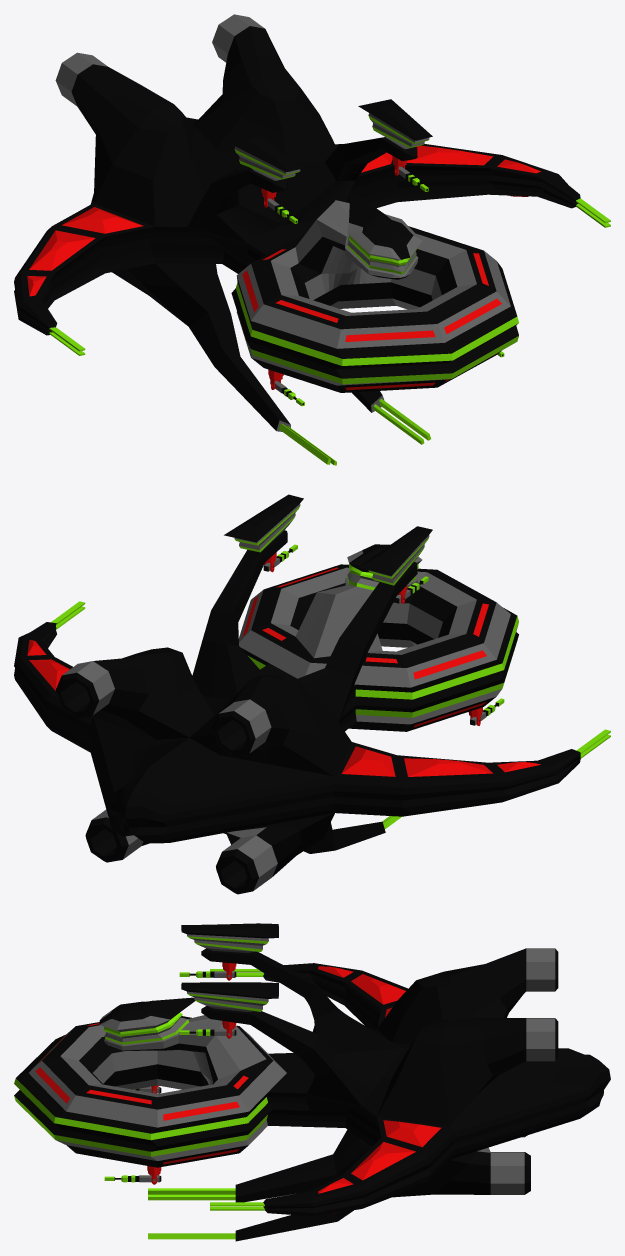
File: Boss.fbx
3 views of the same model, one above another, from view 1: azimuth 30°, elevation 25°; view 2: azimuth 150°, elevation 25°; view 3: azimuth 270°, elevation 25° (orthographic). The views are drawn at different scales.
Visible parts, largest first — view 1: Boss; view 2: Boss; view 3: Boss, TurretBottomLeft, TurretTopRight, TurretTopLeft.
Part boxes in pixels (x1,y1,x2,y2): Boss: (14, 14, 610, 465); Boss: (14, 494, 610, 894); Boss: (14, 923, 610, 1241); TurretBottomLeft: (104, 1166, 161, 1184); TurretTopRight: (179, 962, 236, 980); TurretTopLeft: (179, 1021, 236, 1038).
Size of the model in its own units: 9863 by 5097 by 10347.
